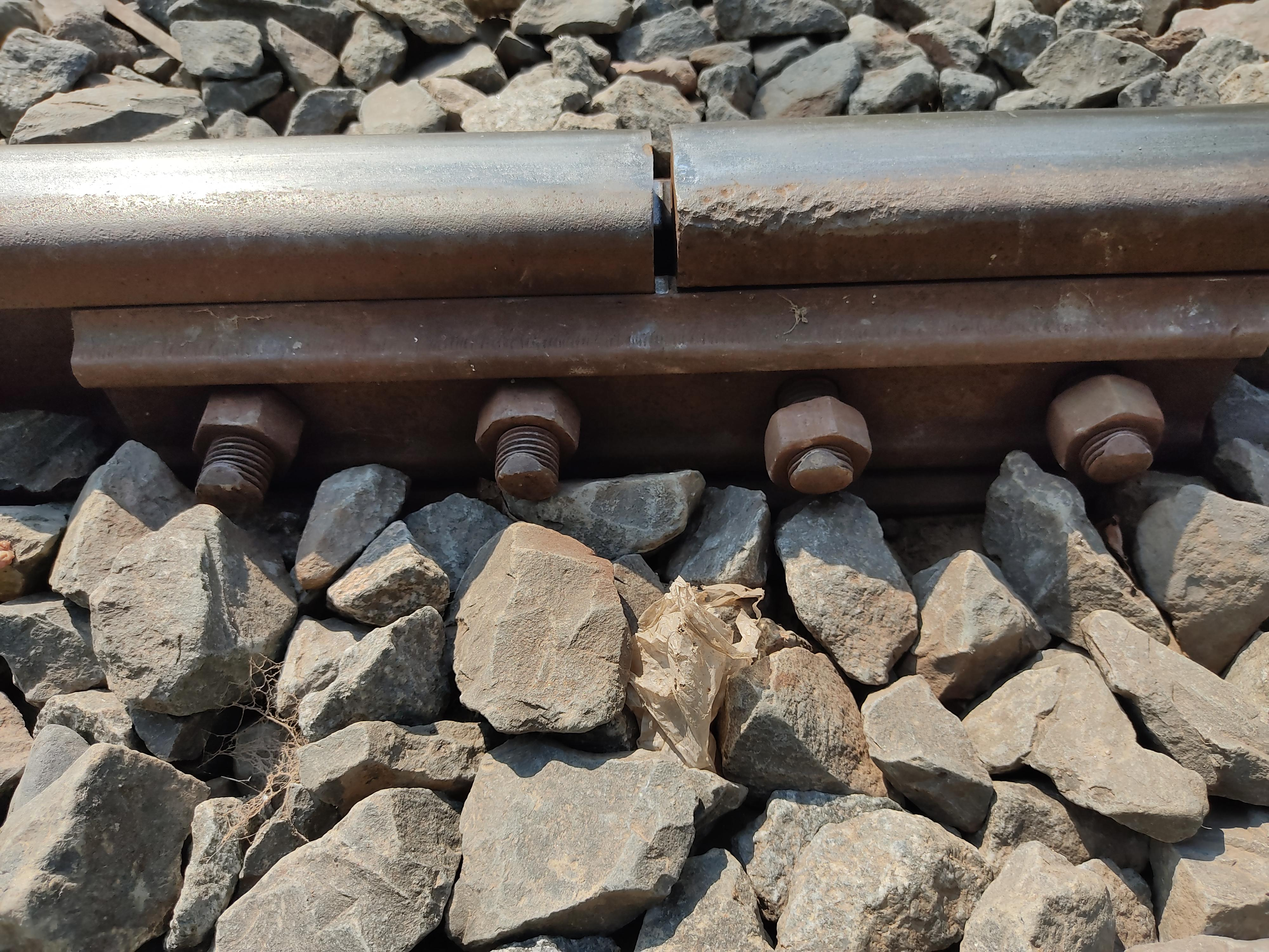railway-gap: (484, 52, 837, 350)
